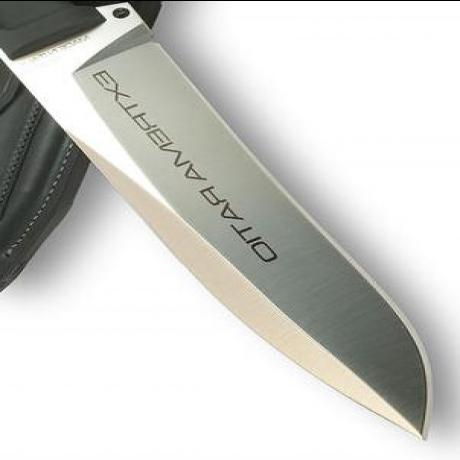weapon: (0, 1, 435, 441)
